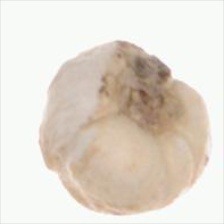L4: (38, 41, 211, 214)
